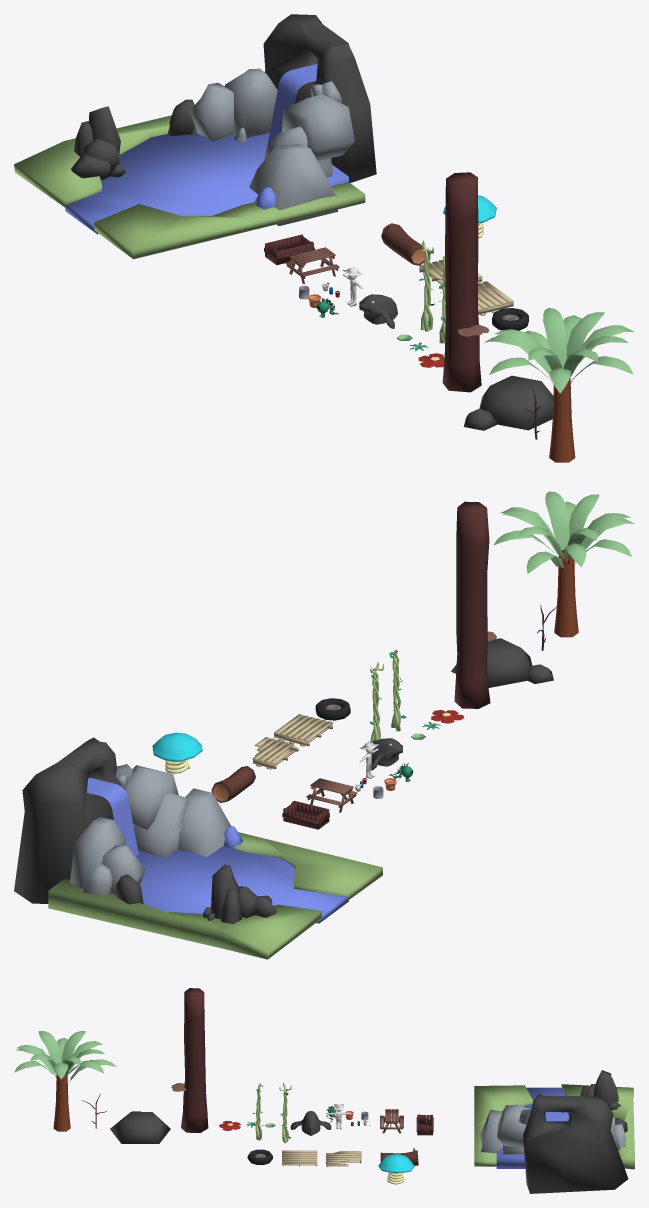
The model's file is Capstone Master File.fbx.
3 views of the same model, one above another, from view 1: azimuth 30°, elevation 25°; view 2: azimuth 150°, elevation 25°; view 3: azimuth 270°, elevation 25° (orthographic). The views are drawn at different scales.
Visible parts, largest first — view 1: water pond, ground, big rock, 2 rock.002, bigTree, Palm, ROCK.001, 2 rock, tall rock.002, small rock, water, tall rock.001 (+8 smaller); view 2: ground, 2 rock.002, water pond, big rock, bigTree, Palm, 2 rock, tall rock.002, ROCK.001, tall rock.001, water, Bounce Mushroom (+8 smaller); view 3: 2 rock.002, ground, bigTree, Palm, big rock, ROCK.001, water pond, Bounce Mushroom, tall rock.001, Palette, Dugong, Palette Broken (+4 smaller).
Boxes of the visible parts, box(x1,y1,x2,y2) form: water pond: box(65, 132, 348, 234); ground: box(14, 115, 365, 259); big rock: box(249, 81, 354, 225); 2 rock.002: box(263, 14, 376, 182); bigTree: box(442, 172, 481, 392); Palm: box(484, 308, 634, 462); ROCK.001: box(479, 375, 553, 430); 2 rock: box(224, 68, 277, 142); tall rock.002: box(189, 83, 234, 141); small rock: box(71, 138, 125, 180); water: box(267, 64, 317, 144); tall rock.001: box(74, 106, 120, 156); ground: box(48, 832, 382, 959); 2 rock.002: box(14, 737, 117, 903); water pond: box(136, 825, 348, 923); big rock: box(113, 764, 230, 858); bigTree: box(454, 501, 490, 708); Palm: box(493, 491, 634, 637); 2 rock: box(70, 817, 125, 888); tall rock.002: box(83, 845, 145, 896); ROCK.001: box(451, 638, 532, 687); tall rock.001: box(211, 864, 242, 924); water: box(87, 778, 138, 856); Bounce Mushroom: box(152, 732, 202, 773); 2 rock.002: box(523, 1094, 628, 1193); ground: box(474, 1084, 634, 1169); bigTree: box(181, 988, 208, 1132); Palm: box(14, 1031, 116, 1131); big rock: box(480, 1104, 531, 1154); ROCK.001: box(110, 1112, 170, 1143); water pond: box(496, 1087, 569, 1168); Bounce Mushroom: box(378, 1154, 414, 1184); tall rock.001: box(593, 1070, 618, 1105); Palette: box(282, 1150, 317, 1166); Dugong: box(290, 1111, 331, 1135); Palette Broken: box(326, 1151, 361, 1167).
Size of the model in its own units: 2314 by 1662 by 6246.
Materials: 11 (2 with a texture image).
